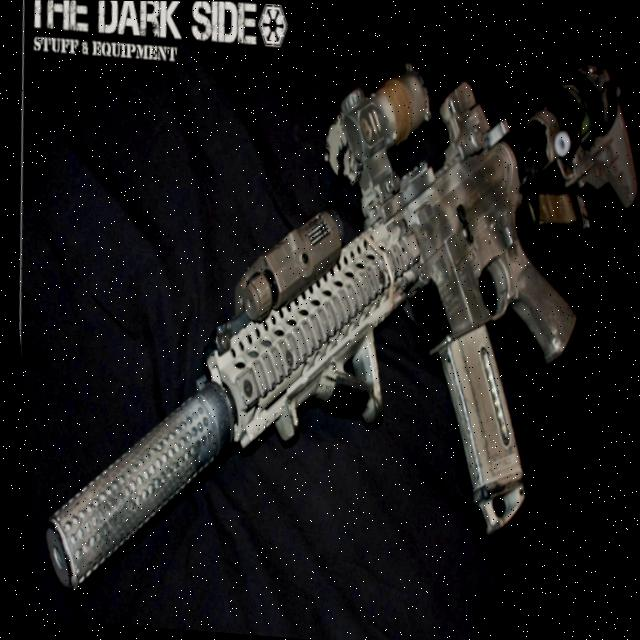firearm: (11, 20, 640, 630)
